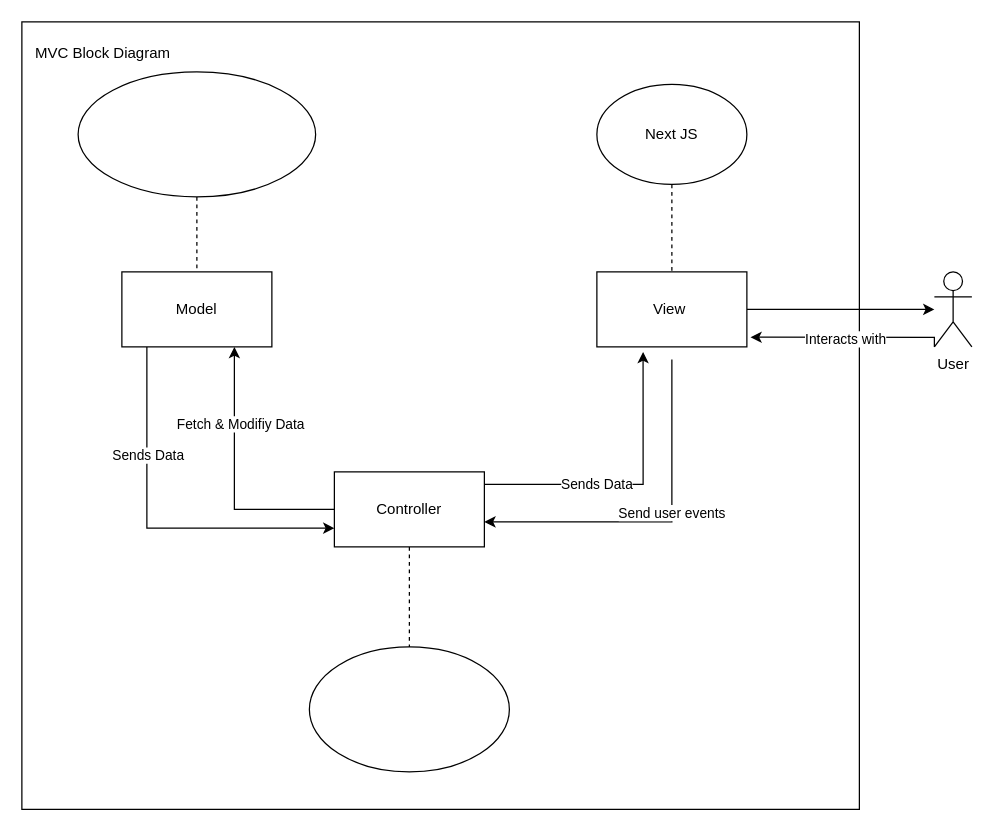
This 994x831 diagram has some shape labels left out. Each missing label, with the centre of its shape:
"Postgres(SQL)" belongs at point (196, 134).
"Prisma" belongs at point (408, 709).
